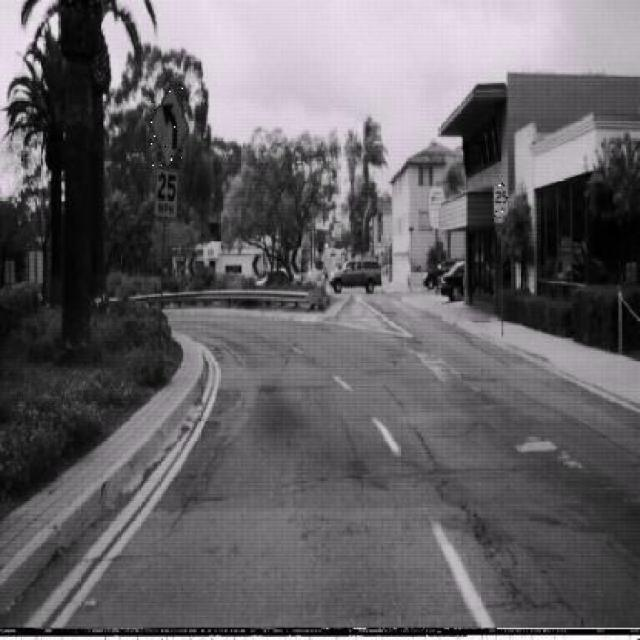curveLeft: (148, 80, 190, 169)
zoneAhead25: (492, 183, 510, 224)
